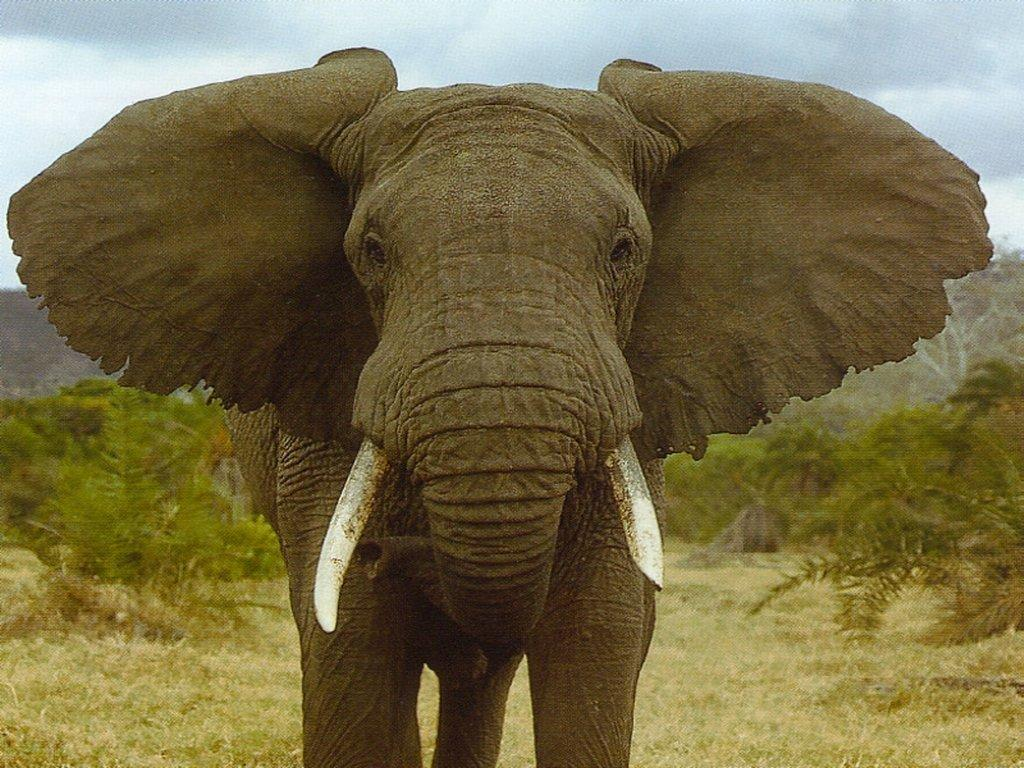africanelephant: (253, 62, 765, 687)
